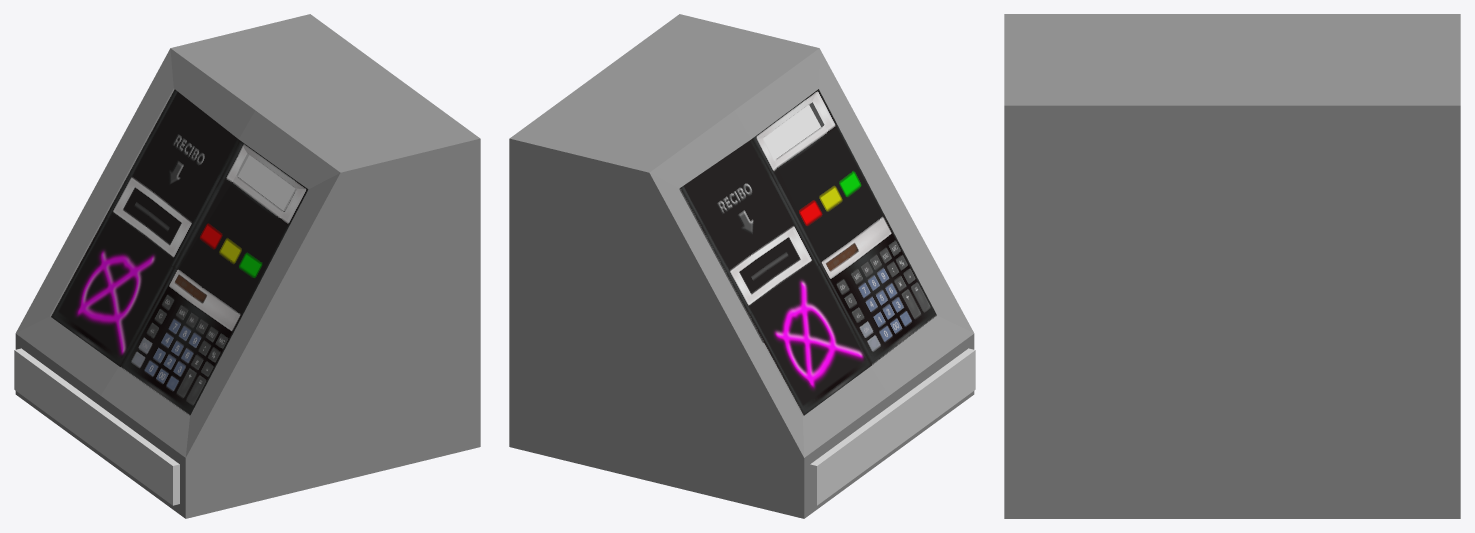
Rendered from CaixaRegistradora.fbx.
3 renders of one model, left to right at view 1: azimuth 30°, elevation 25°; view 2: azimuth 150°, elevation 25°; view 3: azimuth 270°, elevation 25°, orthographic. The views are drawn at different scales.
Visible parts, largest first — view 1: Cube; view 2: Cube; view 3: Cube.
Part boxes in pixels (x1,y1,x2,y2): Cube: [14, 14, 480, 518]; Cube: [509, 14, 975, 518]; Cube: [1004, 14, 1460, 518].
Bounding box in the file's own units: 25.07 × 24.49 × 24.49.
4 materials, 1 textured.
